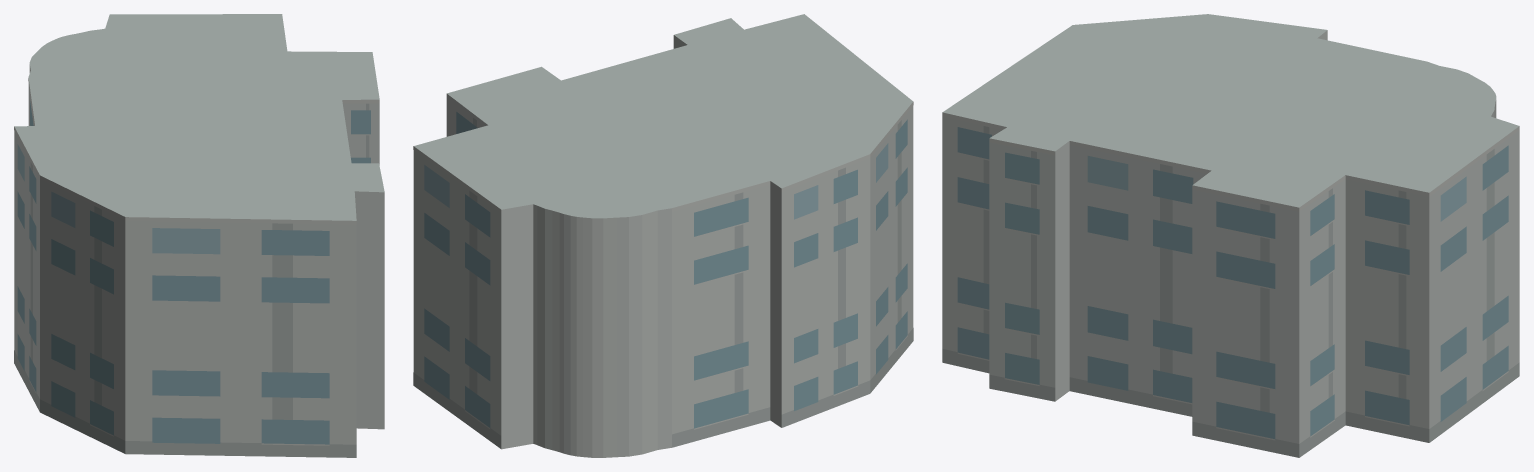
The model's file is survey-upis-32493931.glb.
The picture shows the model from 3 angles, left to right: view 1: azimuth 30°, elevation 25°; view 2: azimuth 150°, elevation 25°; view 3: azimuth 270°, elevation 25°; orthographic projection. The views are drawn at different scales.
Visible parts, largest first — view 1: survey-upis-32493931.tmp; view 2: survey-upis-32493931.tmp; view 3: survey-upis-32493931.tmp.
Boxes of the visible parts, box(x1,y1,x2,y2) form: survey-upis-32493931.tmp: box(14, 14, 384, 457); survey-upis-32493931.tmp: box(413, 14, 913, 457); survey-upis-32493931.tmp: box(942, 14, 1519, 457).
Size of the model in its own units: 24.56 by 14.8 by 30.94.
